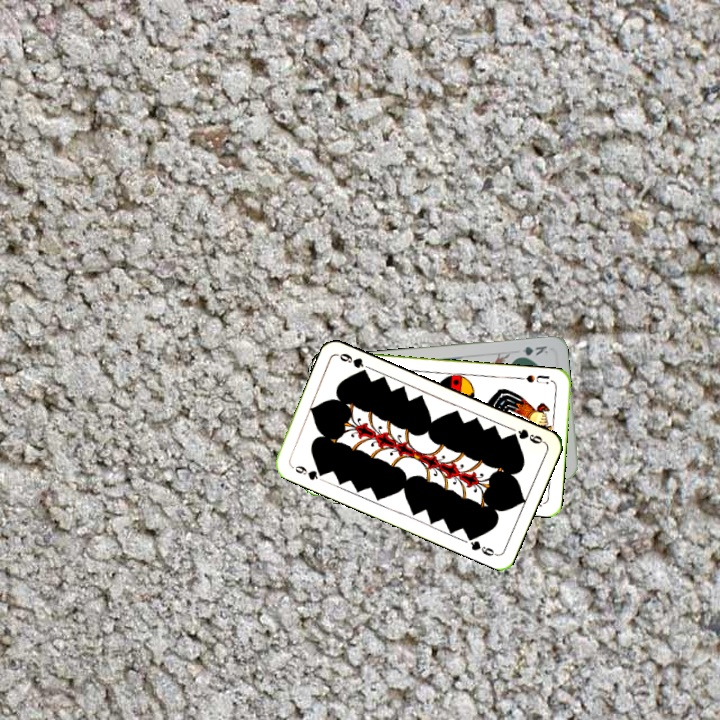G9: (506, 425, 547, 447), (287, 461, 328, 483)
GK: (512, 342, 551, 360)
SU: (515, 371, 551, 387)
